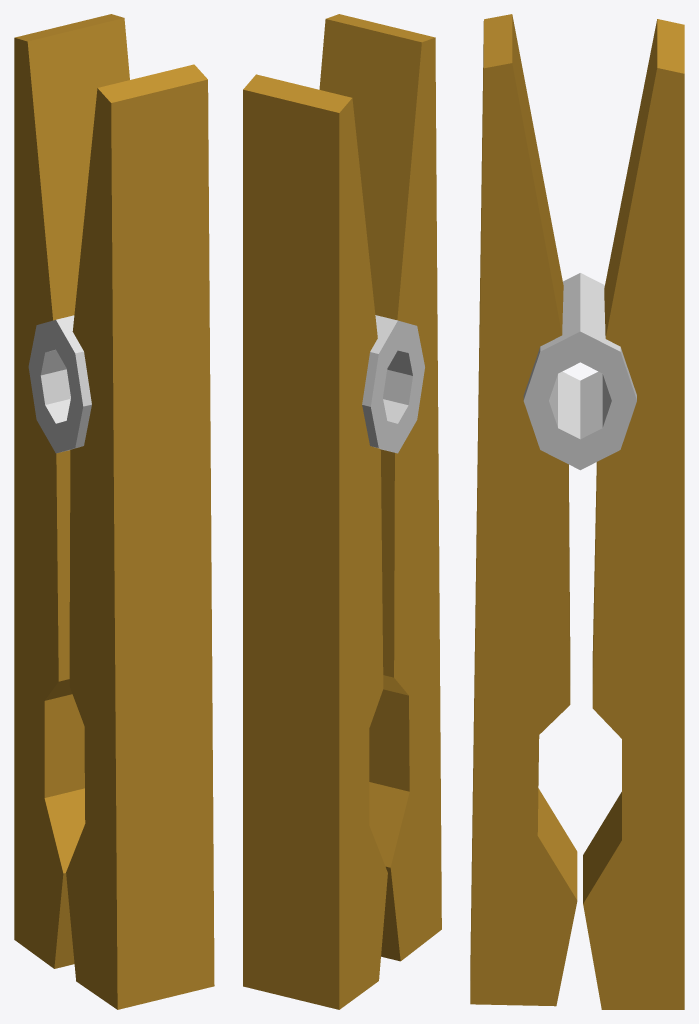
File: prishepka.fbx
3 views of the same model, side by side, from view 1: azimuth 30°, elevation 25°; view 2: azimuth 150°, elevation 25°; view 3: azimuth 270°, elevation 25° (orthographic). The views are drawn at different scales.
Visible parts, largest first — view 1: pCylinder4; view 2: pCylinder4; view 3: pCylinder4.
Part boxes in pixels (x1,y1,x2,y2): pCylinder4: [14, 14, 214, 1009]; pCylinder4: [243, 14, 441, 1009]; pCylinder4: [470, 14, 684, 1009].
Bounding box in the file's own units: 0.117 × 0.8794 × 0.1801.
